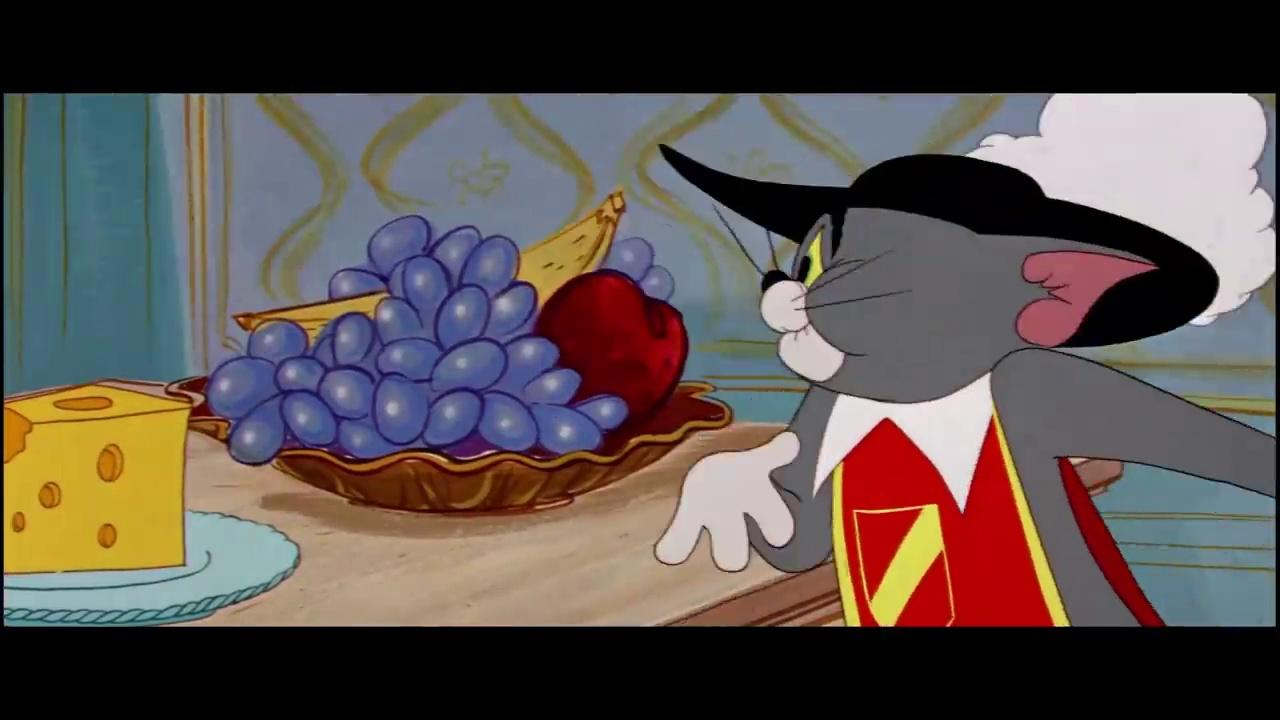Tom: (652, 203, 1276, 628)
